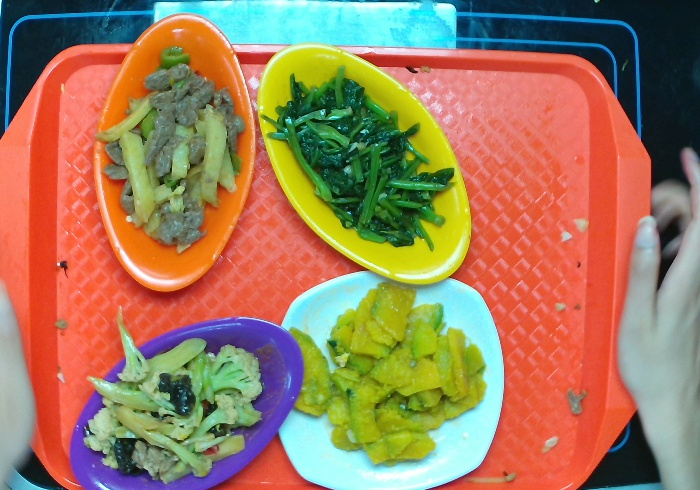RJxy-Fen_Hong_Tuo_Yuan: (68, 314, 306, 490)
RJxy-Huang_Se_Tuo_Yuan: (256, 42, 473, 286)
RJxy-Ju_Huang_Tuo_Yuan: (92, 11, 257, 292)
RJxy-Si_Fang_Die: (277, 269, 506, 490)
